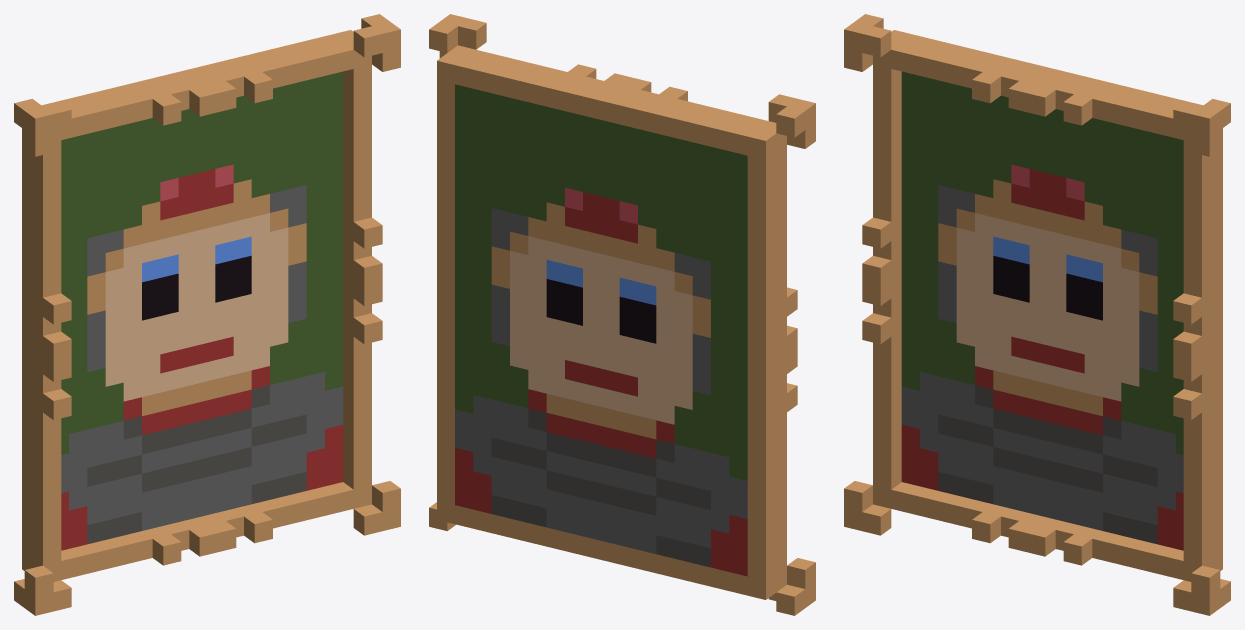
The model's file is Picture.obj.
The picture shows the model from 3 angles, left to right: view 1: azimuth 30°, elevation 25°; view 2: azimuth 150°, elevation 25°; view 3: azimuth 330°, elevation 25°; orthographic projection.
Bounding box in the file's own units: 20 × 26 × 3.
1 material, 1 textured.
